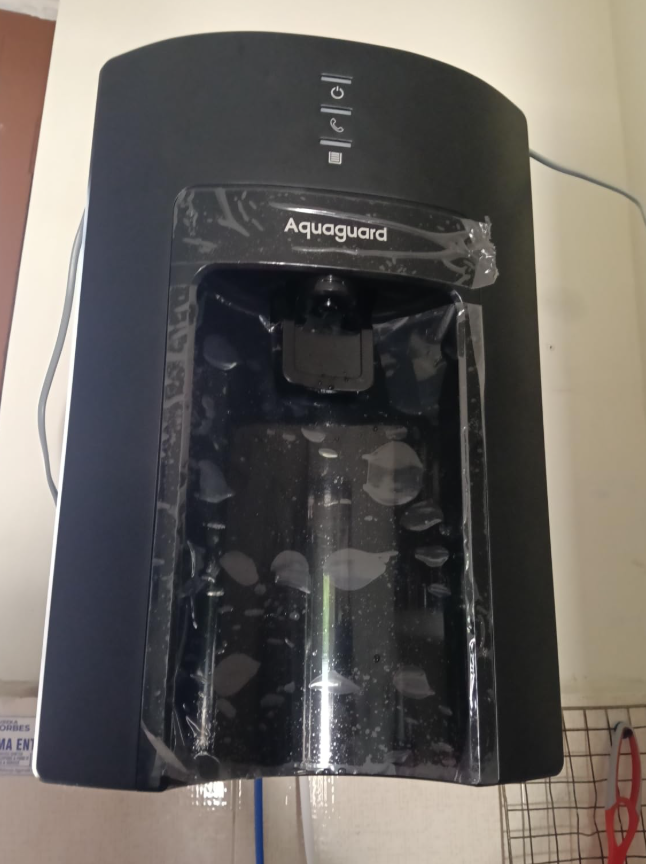water purifier: (26, 24, 580, 797)
